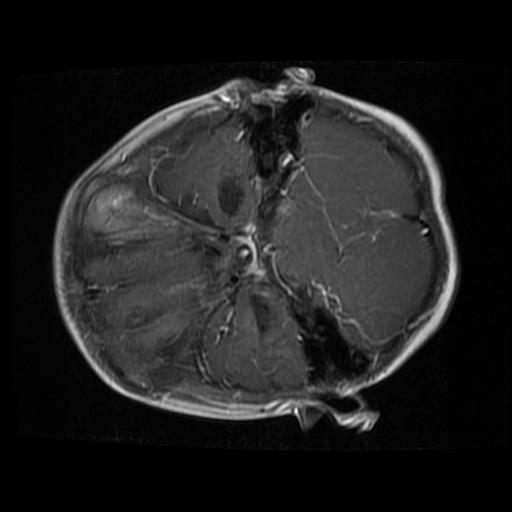glioma: (214, 175, 242, 218)
